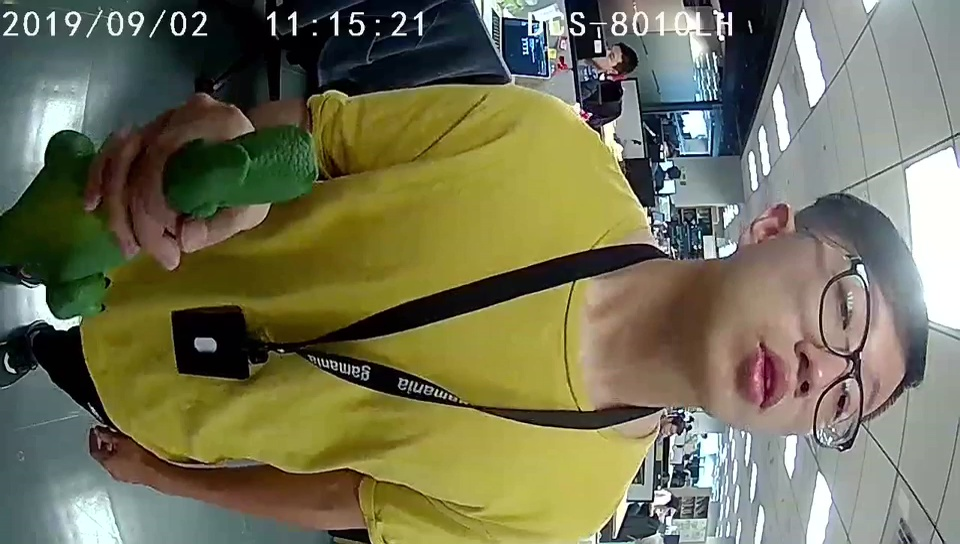rex: (37, 126, 317, 318)
